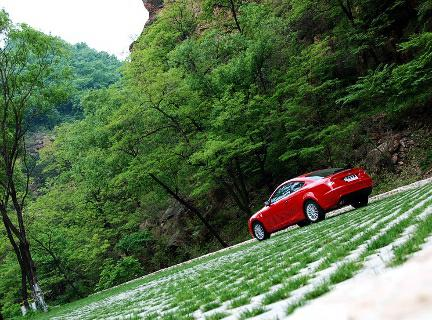中华-酷宝: (243, 160, 378, 245)
